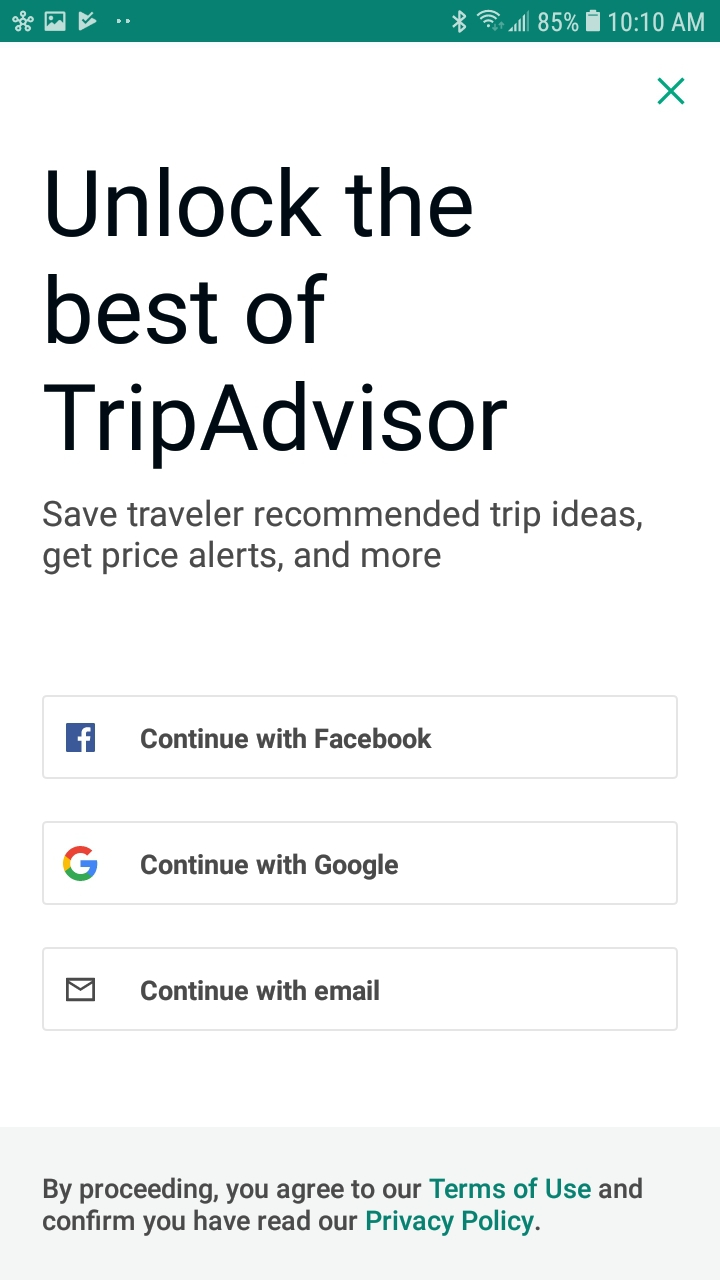Icon: (657, 76, 685, 106)
Text: (44, 167, 508, 471), (43, 498, 643, 576), (43, 1177, 643, 1237)
TextButton: (43, 695, 679, 780), (43, 821, 679, 906), (42, 947, 678, 1032)
UpperTaskBar: (1, 1, 720, 43)
